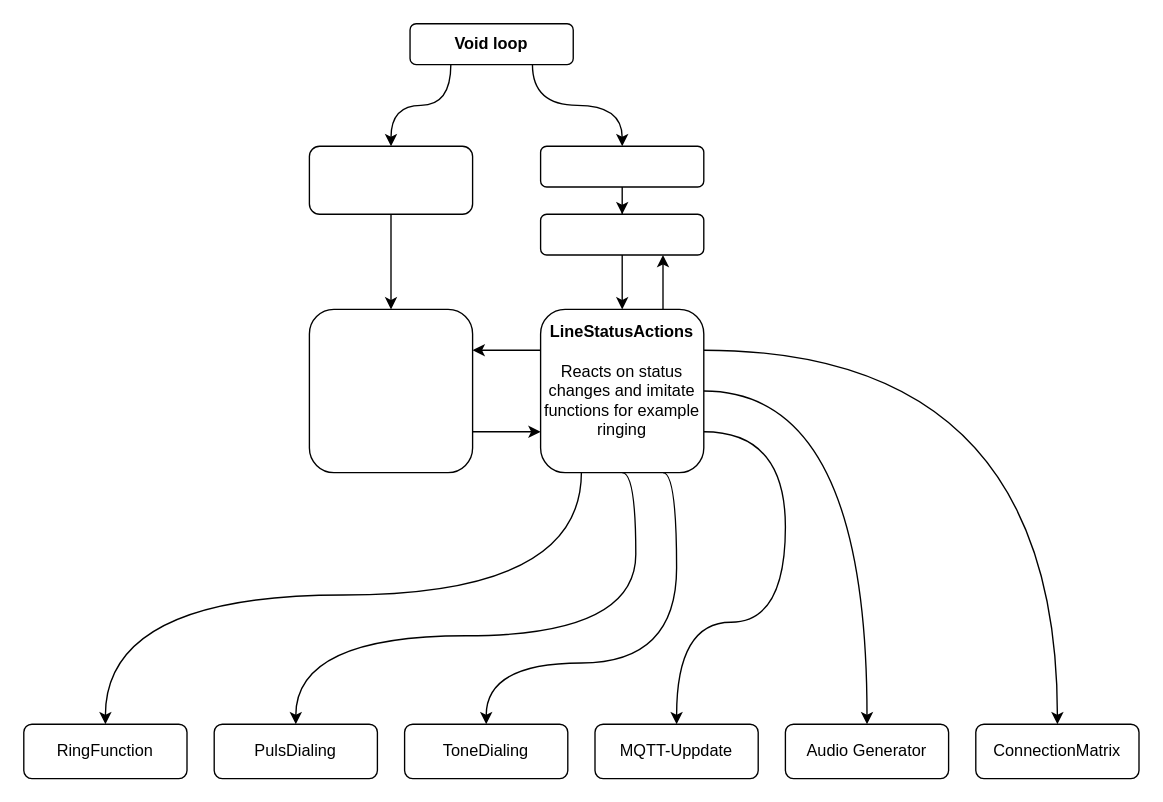
The diagram is 1163 pixels wide and 802 high, and some of its shapes have lost their labels. The box of each missing label's shape, as (x1, y1, x2, y2) in pixels:
LineStatusHandler -Current Status - Previous Status - Time last changed: (308, 308, 473, 473)
MQTT Manager: (539, 213, 704, 255)
Sensing SHK Detecting if Hook is on or off: (308, 145, 473, 214)
WiFi Manager: (539, 145, 704, 187)
